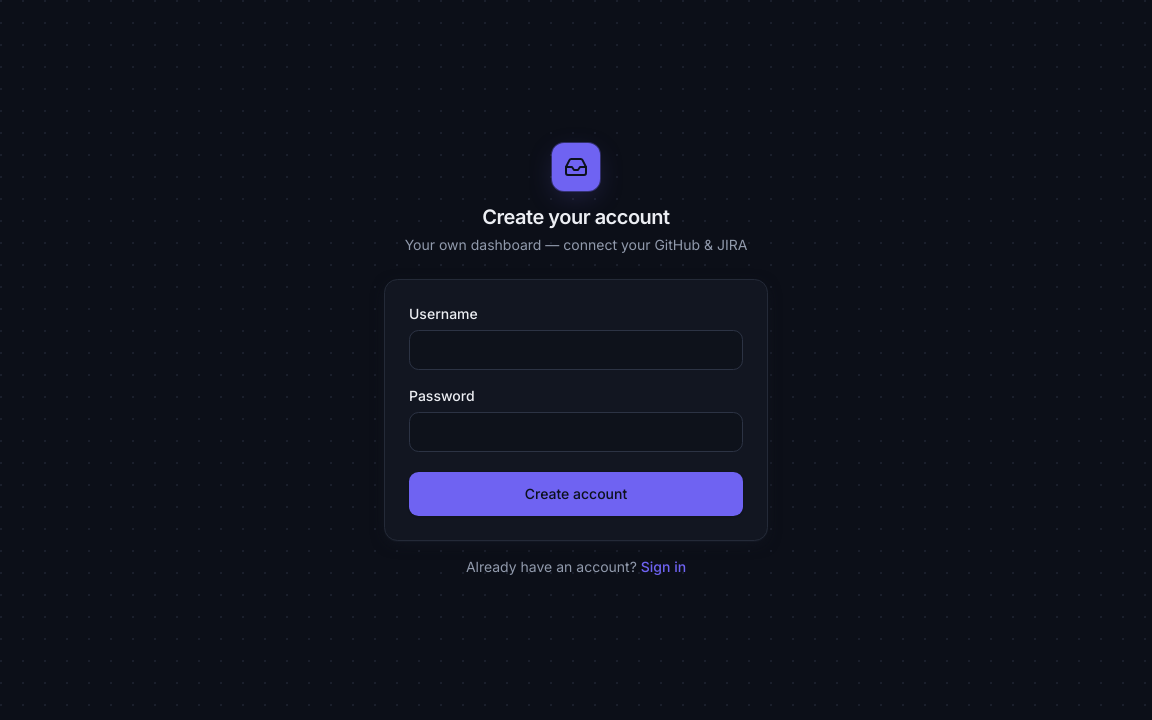
Test: Register › shows a clear error when signups are disabled
Type "alice" into the field labelled "Username". click: [576, 350]
box: x1=409 y1=330 x2=743 y2=370
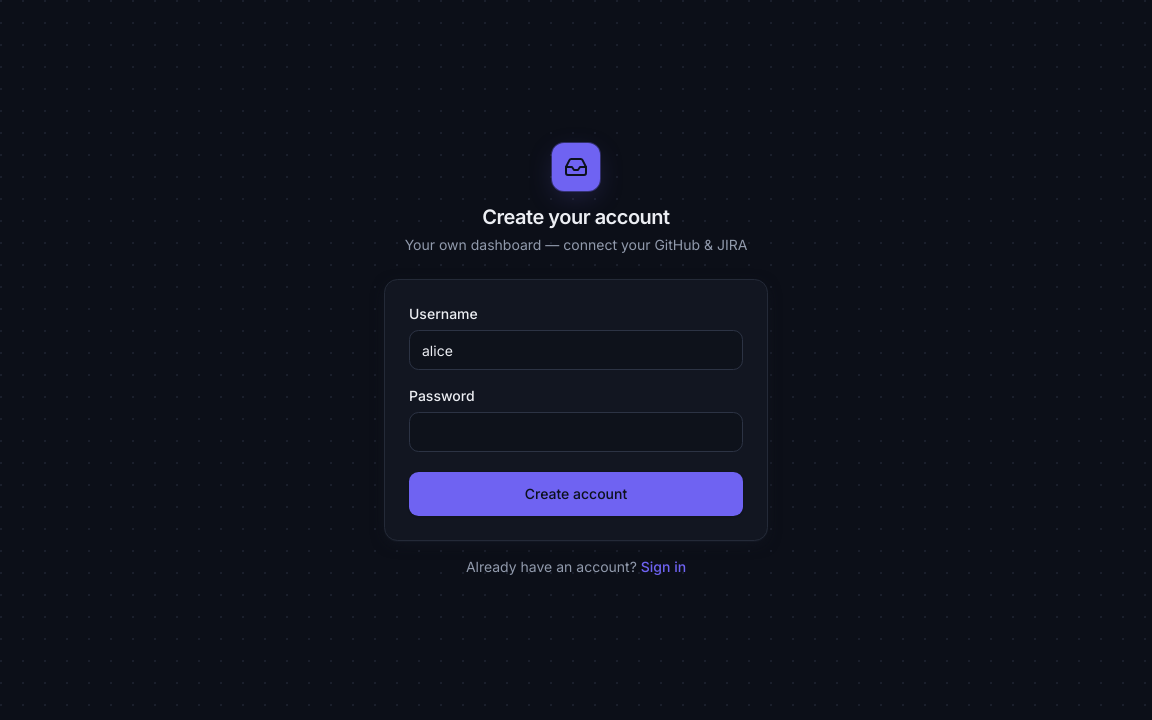
Type "pw1234567" into the password field labelled "Password". click: [576, 432]
box: x1=409 y1=412 x2=743 y2=452
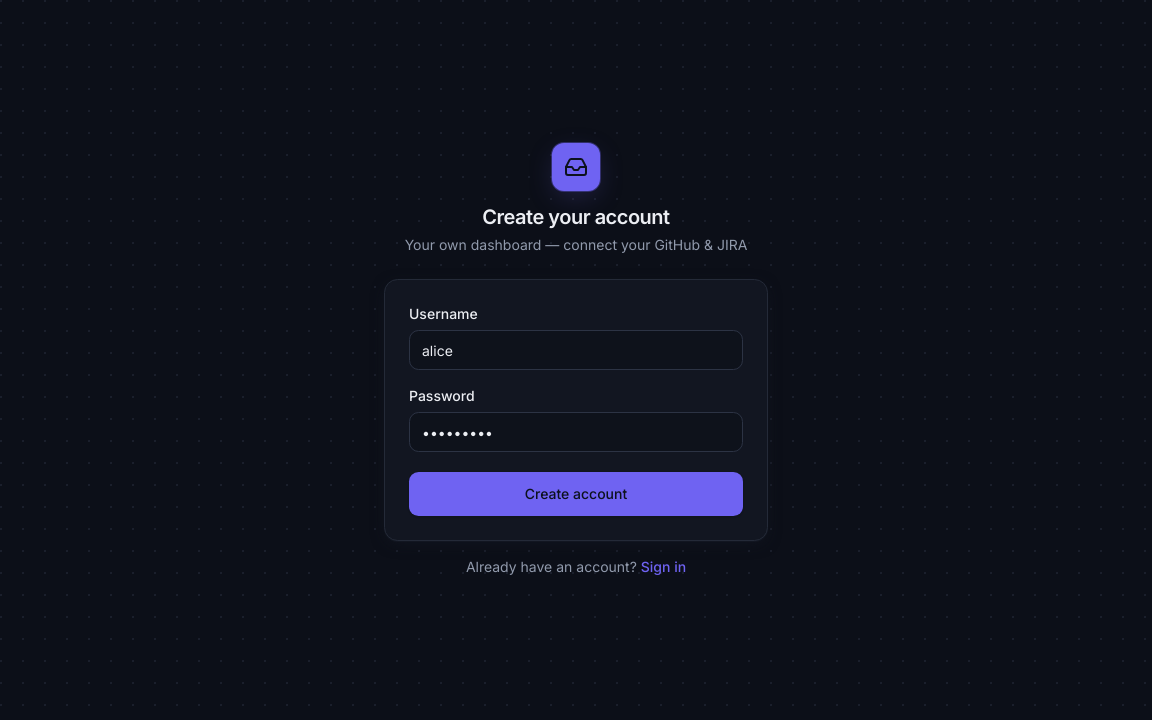
Click the button "Create account". click: [576, 494]
box: x1=409 y1=472 x2=743 y2=516
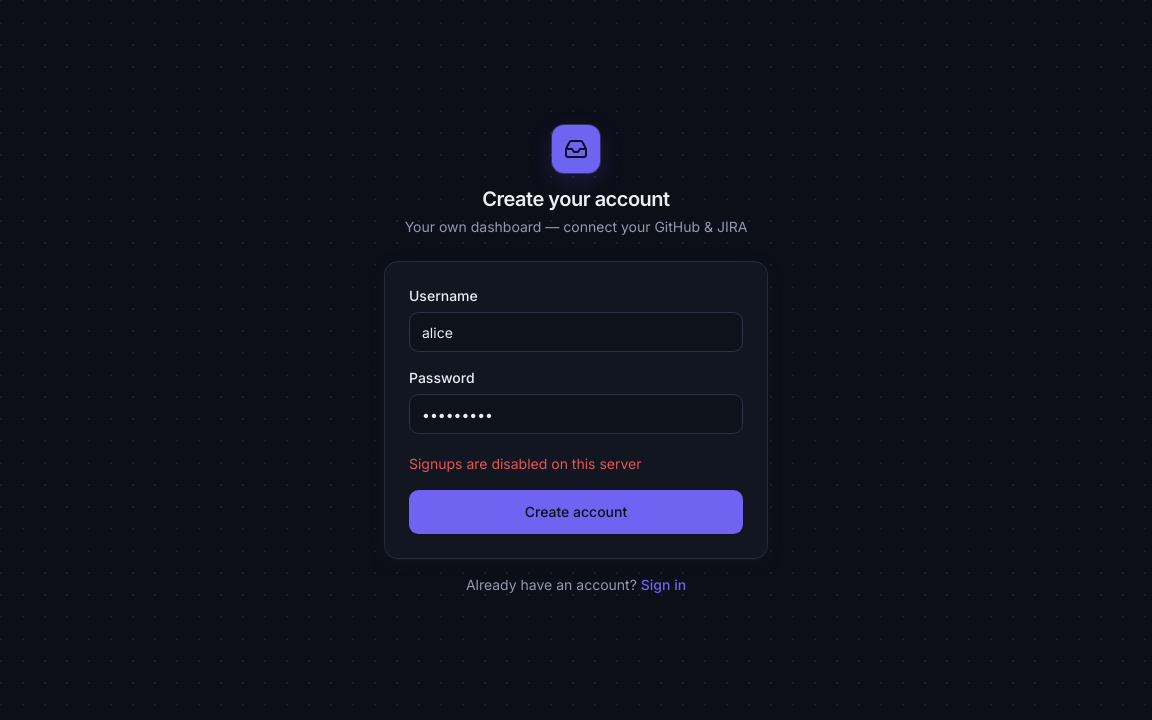
Expected: the text "Signups are disabled on this server" is shown, x1=409 y1=455 x2=642 y2=472
